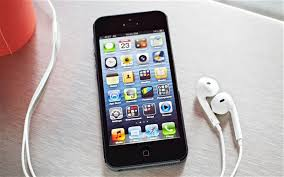iphone: (89, 6, 189, 173)
iphone5: (90, 6, 190, 173)
